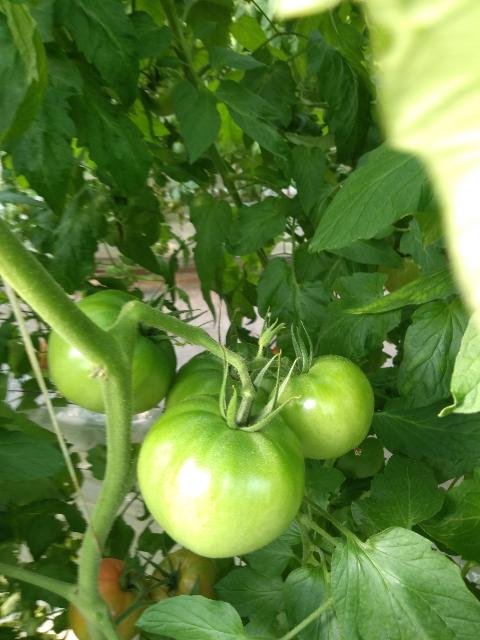b_green: (137, 391, 305, 559), (46, 289, 177, 416), (266, 354, 375, 460), (163, 342, 292, 412), (148, 547, 222, 607)
b_half_ripened: (69, 558, 152, 639)
